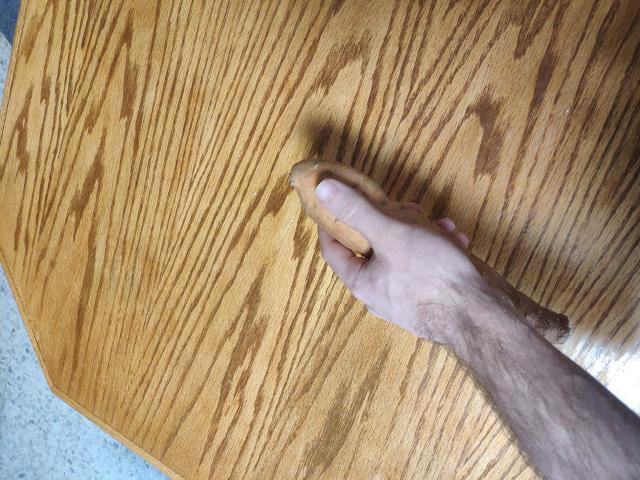sweet_potato: (286, 159, 576, 349)
